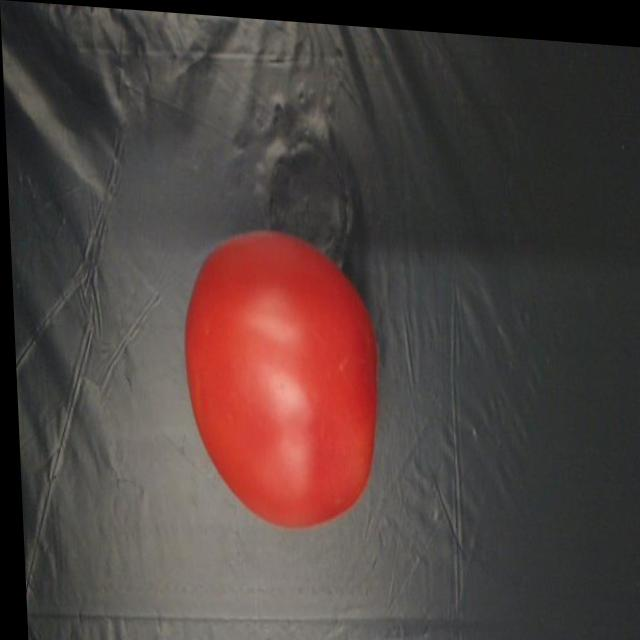kirmizi: (167, 219, 442, 553)
